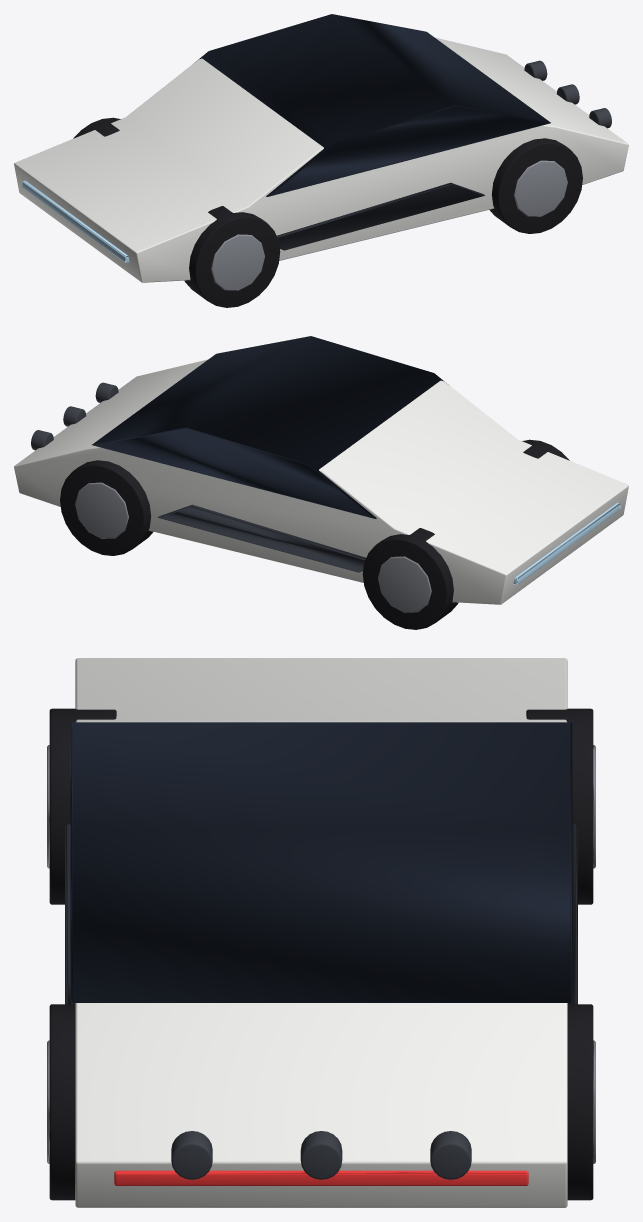
Rendered from roadster26.glb.
3 renders of one model, top to bottom at view 1: azimuth 30°, elevation 25°; view 2: azimuth 150°, elevation 25°; view 3: azimuth 270°, elevation 25°, orthographic. The views are drawn at different scales.
Parts seen in each view (by area): view 1: roadster26, wheelz_TD, wheelz_FD, wheelz_TE; view 2: roadster26, wheelz_TE, wheelz_FE, wheelz_TD; view 3: roadster26, wheelz_FE, wheelz_FD, wheelz_TE, wheelz_TD.
Part boxes in pixels (bbox=[...]): roadster26: bbox=[14, 14, 628, 282]; wheelz_TD: bbox=[184, 206, 280, 307]; wheelz_FD: bbox=[489, 138, 582, 233]; wheelz_TE: bbox=[73, 117, 120, 138]; roadster26: bbox=[14, 336, 628, 604]; wheelz_TE: bbox=[362, 528, 458, 629]; wheelz_FE: bbox=[60, 460, 153, 555]; wheelz_TD: bbox=[522, 439, 569, 460]; roadster26: bbox=[65, 658, 577, 1207]; wheelz_FE: bbox=[567, 1004, 595, 1200]; wheelz_FD: bbox=[47, 1004, 75, 1200]; wheelz_TE: bbox=[526, 708, 595, 904]; wheelz_TD: bbox=[47, 708, 116, 904].
Bounding box in the file's own units: 4.47 × 1.22 × 2.12.
